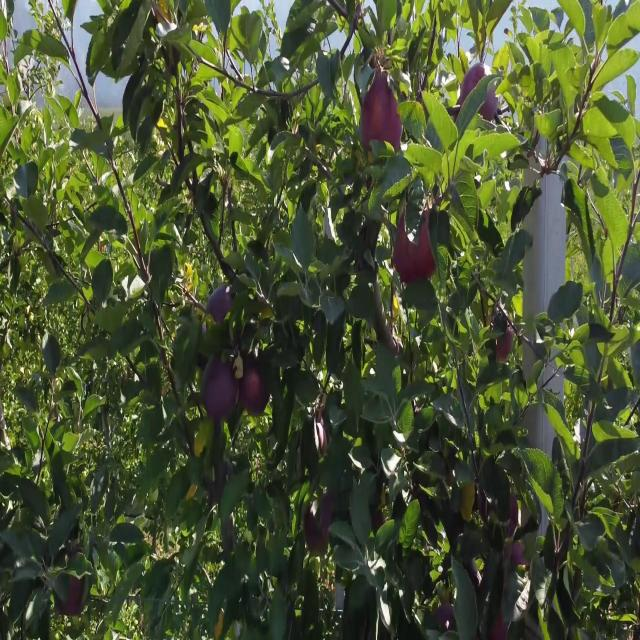apple: (360, 71, 402, 151), (392, 209, 435, 282), (201, 358, 239, 420), (304, 496, 331, 556), (239, 367, 269, 416), (459, 62, 490, 106), (59, 576, 85, 616), (206, 284, 232, 322), (314, 404, 330, 456), (496, 324, 514, 362), (479, 87, 498, 120), (460, 482, 475, 522), (490, 611, 508, 640), (508, 493, 520, 536), (214, 609, 224, 640)
